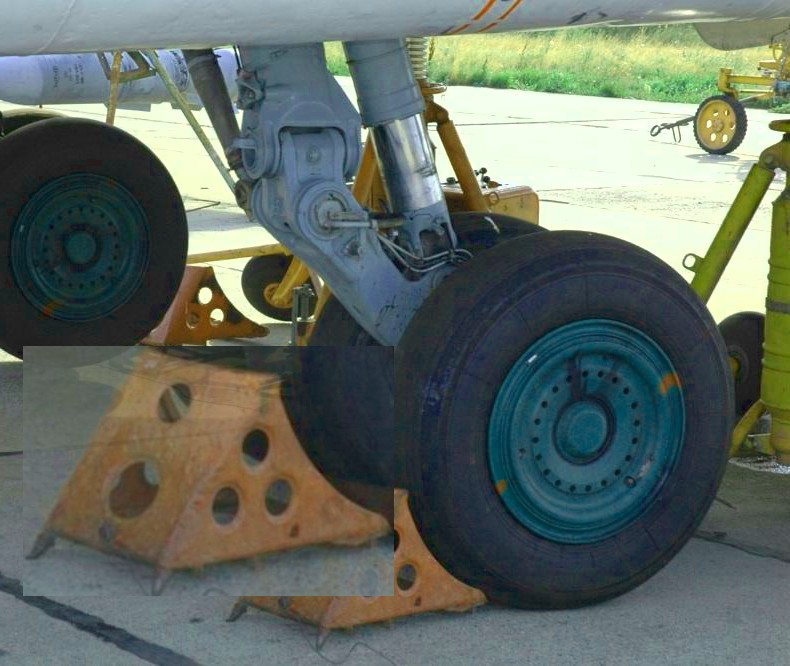chock: (23, 346, 394, 596), (224, 469, 488, 648)
wheel: (378, 228, 739, 609), (0, 111, 187, 370)
